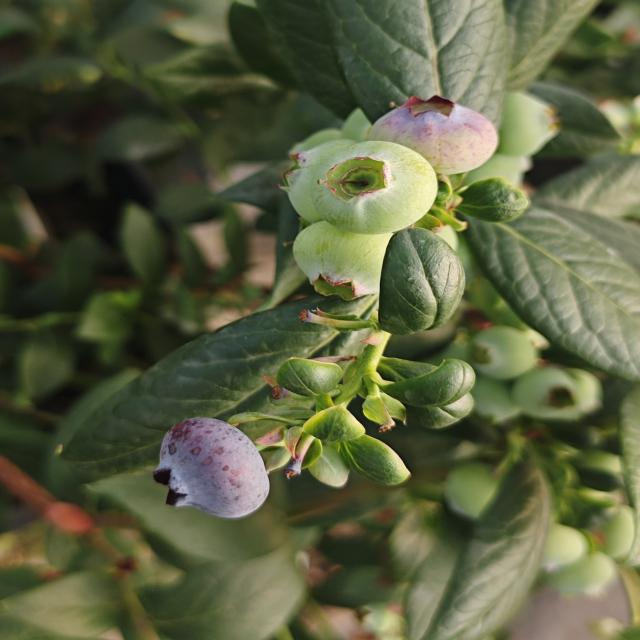ripe: (150, 409, 275, 530)
